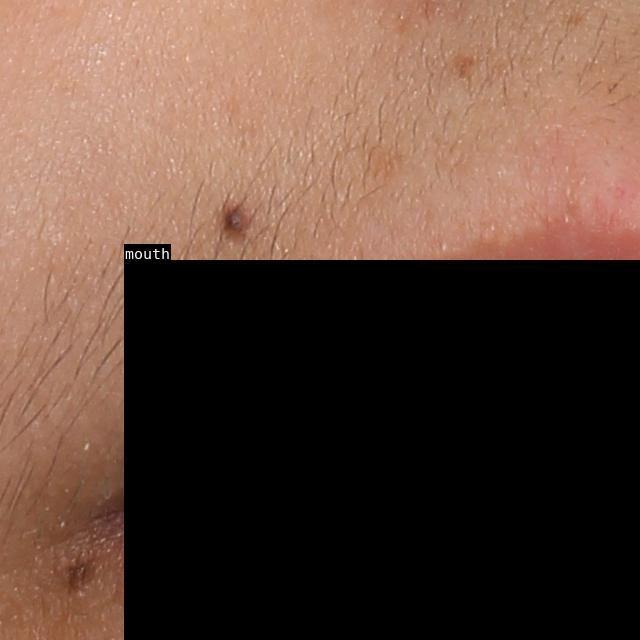nevus: (218, 198, 257, 243), (64, 559, 101, 600)
